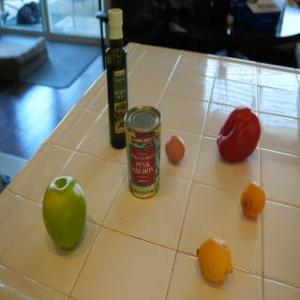bell_pepper: (208, 102, 270, 164)
egg: (165, 134, 187, 166)
